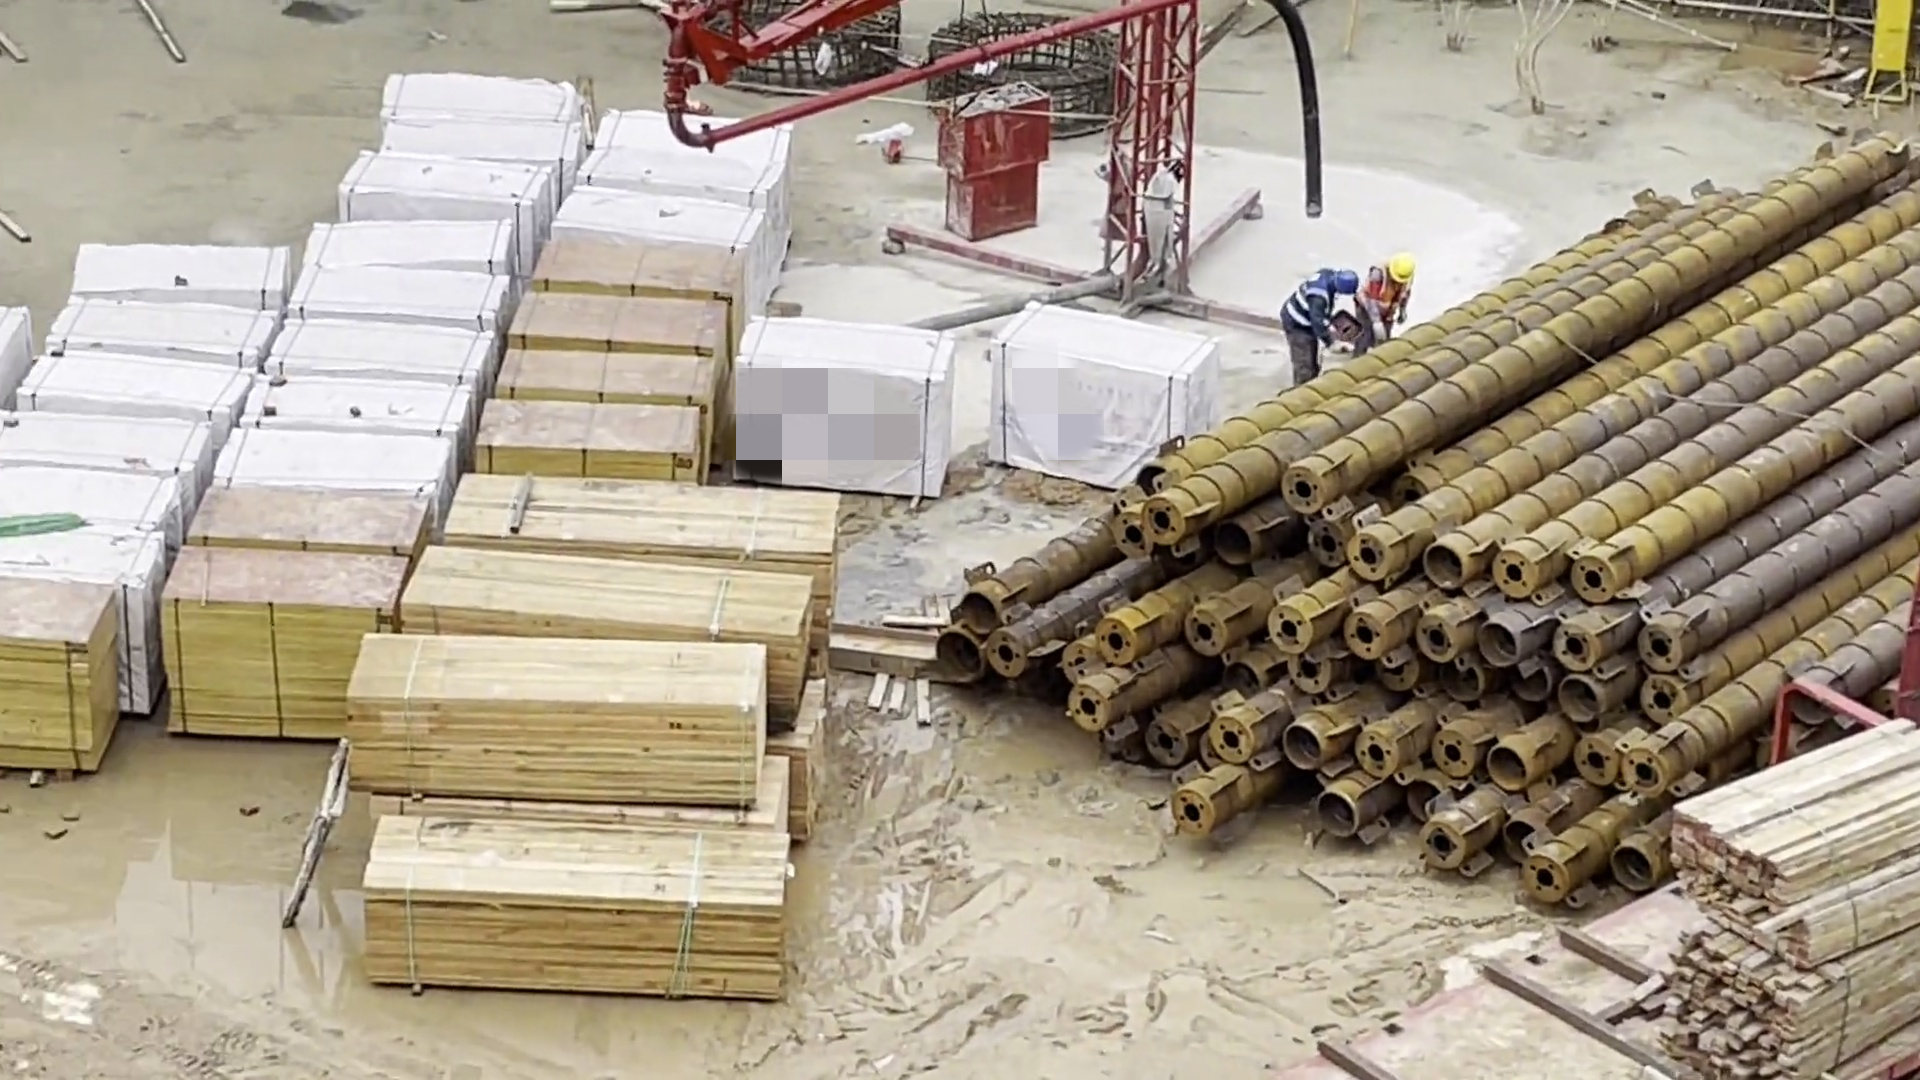ebox: (1858, 1, 1902, 113)
helmet: (1387, 250, 1417, 286), (1335, 259, 1358, 298)
person: (1265, 260, 1363, 386), (1353, 251, 1416, 353)
vest: (1278, 261, 1344, 338), (1372, 270, 1411, 323)
wood: (387, 815, 797, 1017), (330, 622, 785, 789), (150, 529, 420, 773), (409, 535, 817, 679), (443, 457, 857, 589), (1667, 764, 1870, 952), (1664, 911, 1879, 1080), (1, 556, 130, 787), (477, 398, 711, 486), (511, 282, 732, 360), (528, 227, 750, 302), (493, 345, 727, 416)
